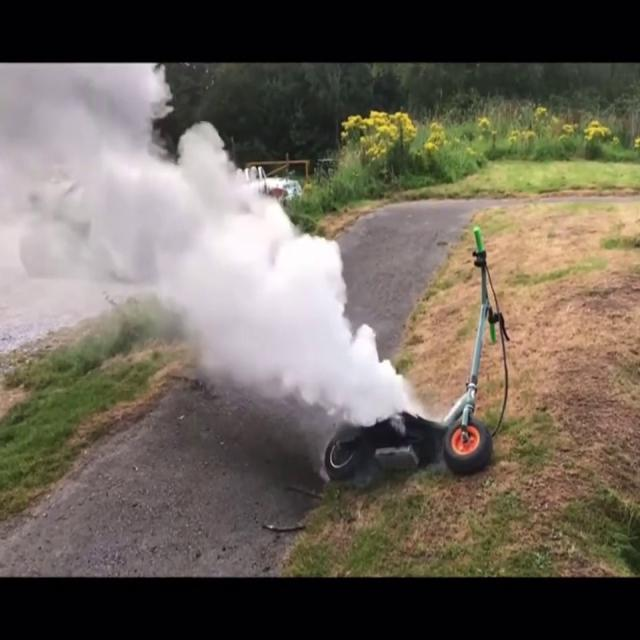Smoke: (0, 62, 248, 339), (178, 202, 404, 432)
